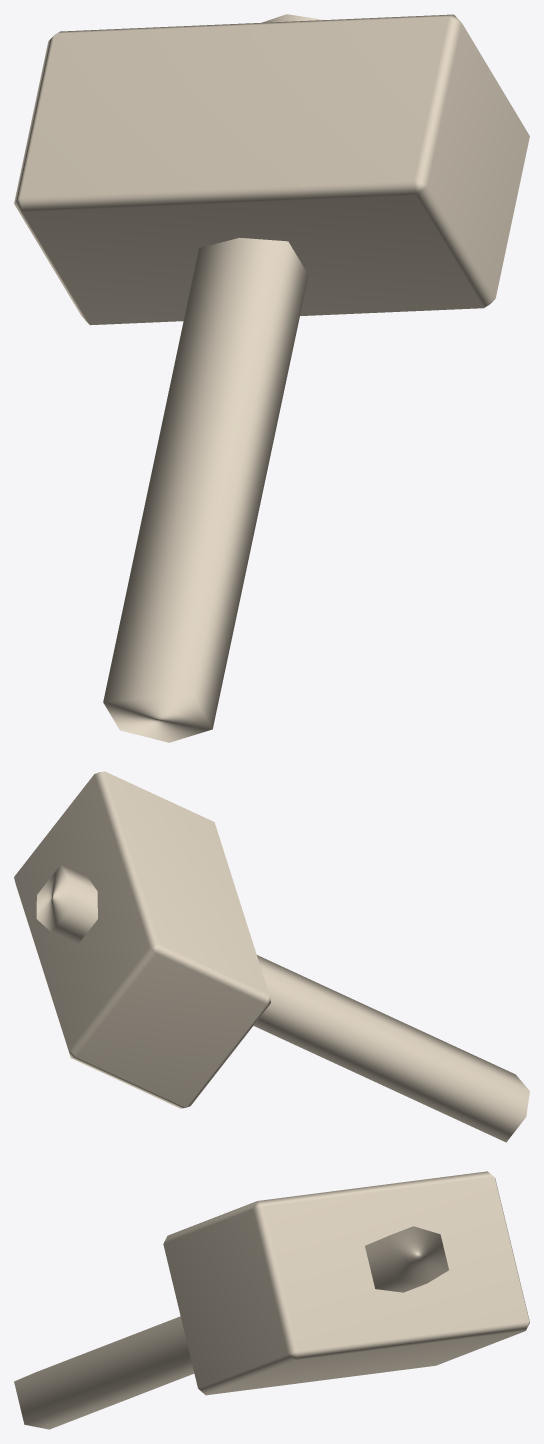
File: hammer-base.glb
3 views of the same model, one above another, from view 1: azimuth 30°, elevation 25°; view 2: azimuth 150°, elevation 25°; view 3: azimuth 270°, elevation 25° (orthographic). The views are drawn at different scales.
Size of the model in its own units: 0.5614 by 0.4818 by 0.5946.
